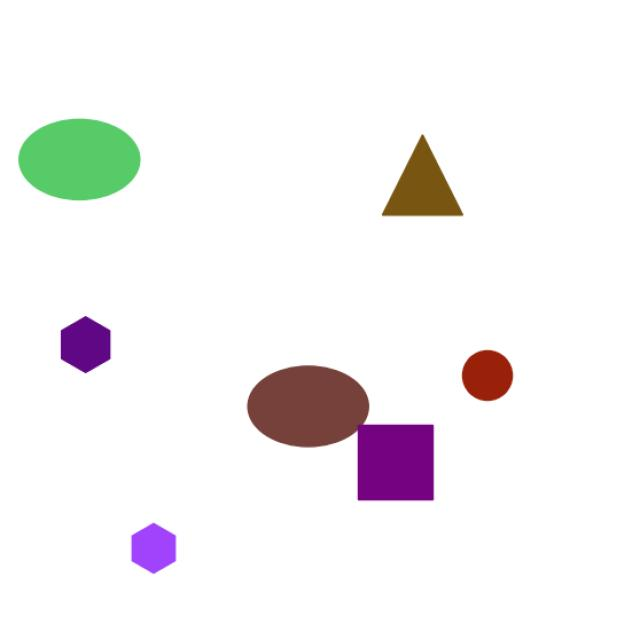Circle: (453, 342, 518, 409)
Hexagon: (46, 302, 132, 385), (118, 508, 190, 603)
Oval: (5, 109, 150, 209), (234, 354, 377, 454)
Triangle: (370, 135, 482, 236)
square: (337, 403, 463, 522)
